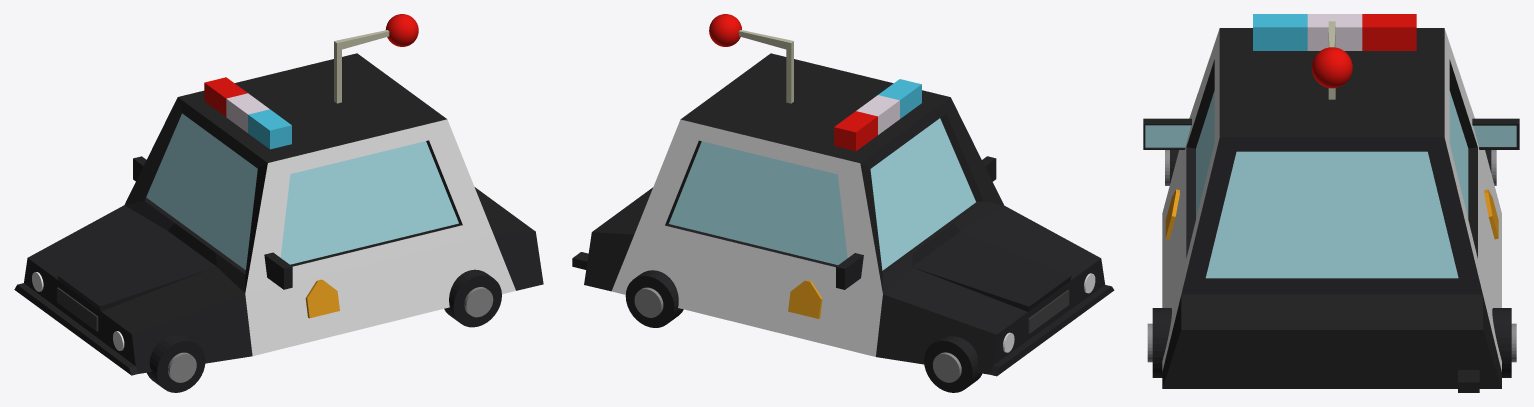
The model's file is OF[obsMov]_RemoteCar.fbx.
3 views of the same model, side by side, from view 1: azimuth 30°, elevation 25°; view 2: azimuth 150°, elevation 25°; view 3: azimuth 270°, elevation 25° (orthographic). The views are drawn at different scales.
Visible parts, largest first — view 1: Cube.007; view 2: Cube.007; view 3: Cube.007.
Boxes of the visible parts, x1,y1,x2,y2 form: Cube.007: (14, 14, 543, 392); Cube.007: (572, 14, 1114, 392); Cube.007: (1143, 14, 1519, 392).
Bounding box in the file's own units: 149 × 87.29 × 92.04.
